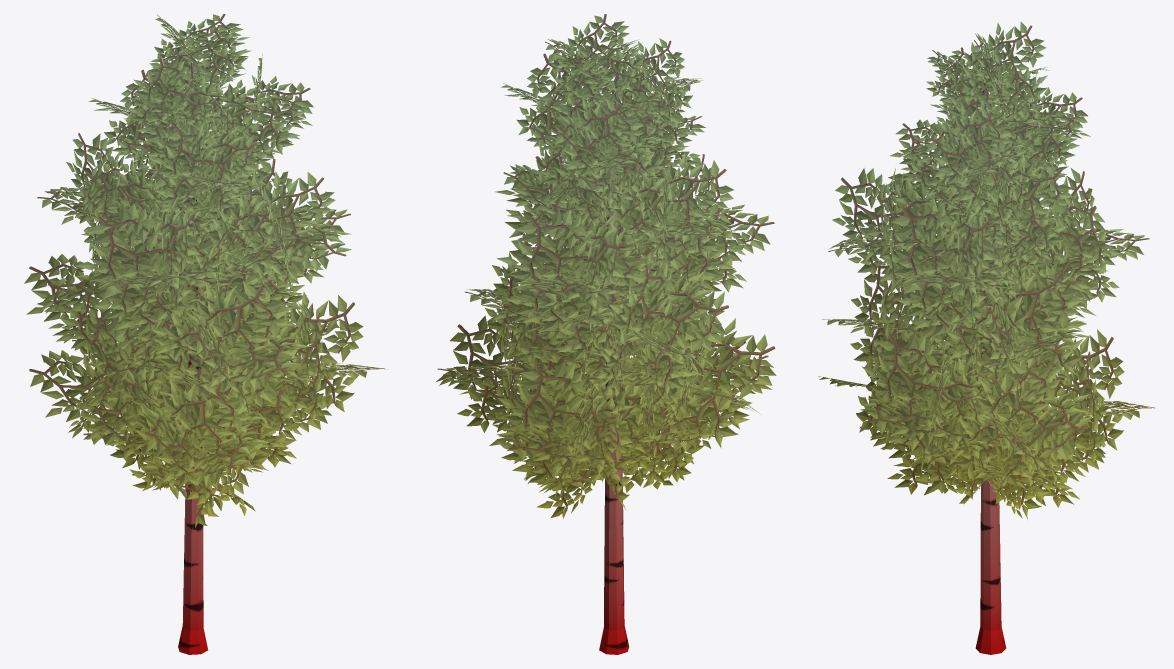
3 views of the same model, side by side, from view 1: azimuth 30°, elevation 25°; view 2: azimuth 150°, elevation 25°; view 3: azimuth 270°, elevation 25° (orthographic).
Visible parts, largest first — view 1: SM_Tree_Birch_01; view 2: SM_Tree_Birch_01; view 3: SM_Tree_Birch_01.
Boxes of the visible parts, x1,y1,x2,y2 form: SM_Tree_Birch_01: (24,14,387,654); SM_Tree_Birch_01: (436,14,776,654); SM_Tree_Birch_01: (818,22,1154,654).
Size of the model in its own units: 2.45 by 4.55 by 2.29.
2 materials, 2 textured.
